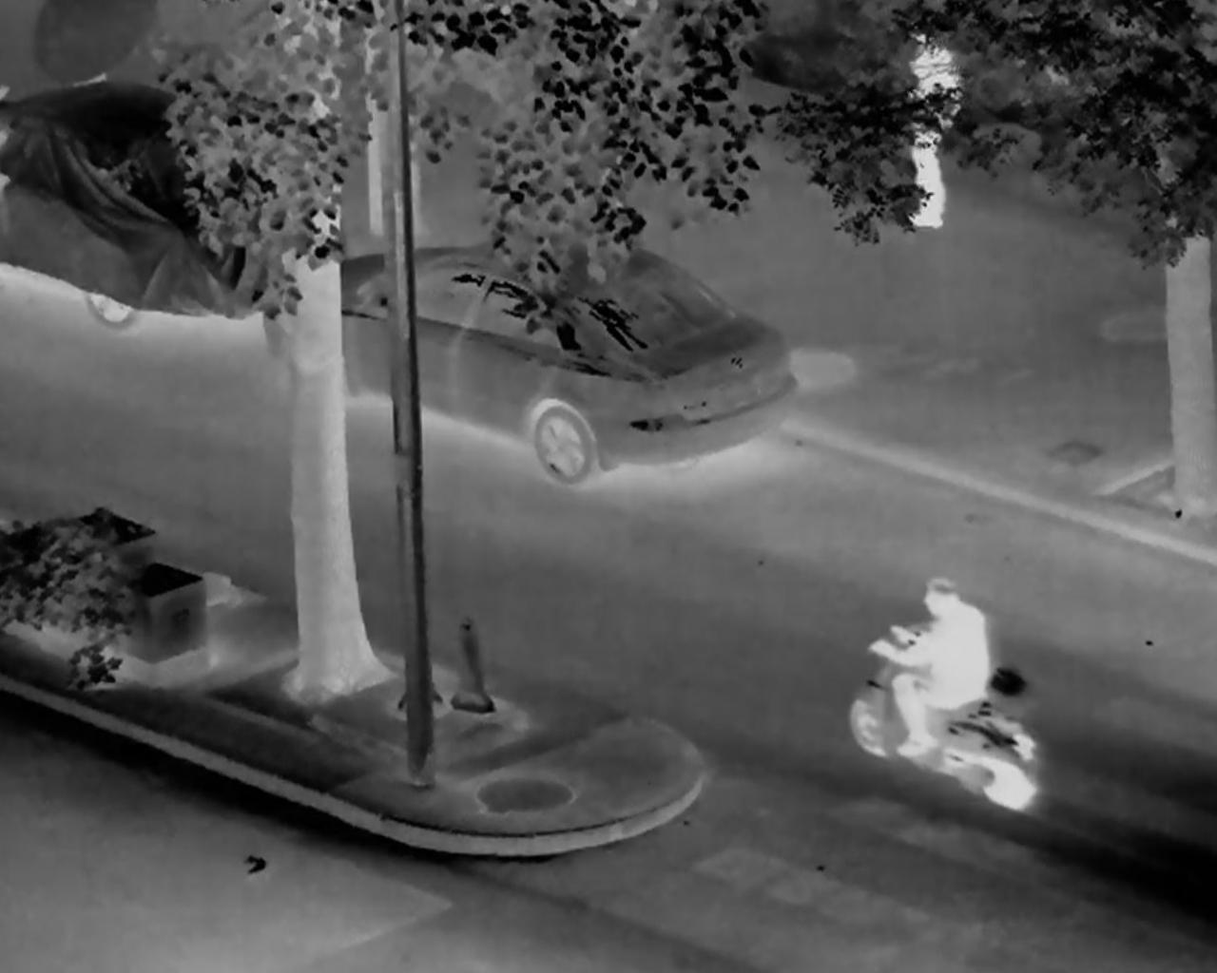person: (871, 579, 990, 756), (892, 27, 959, 229)
